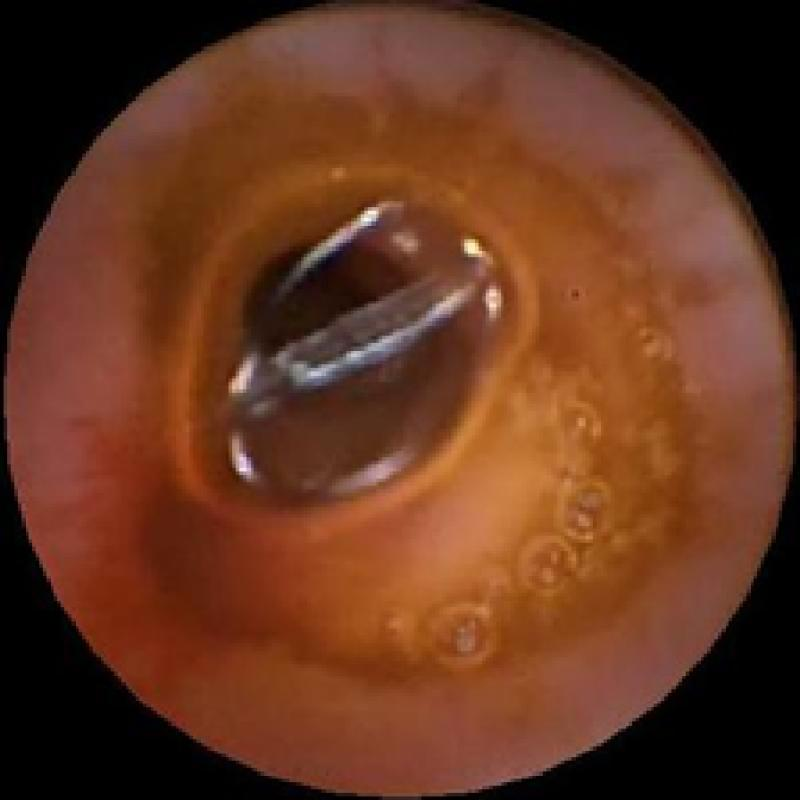bleeding: (146, 318, 404, 682)
